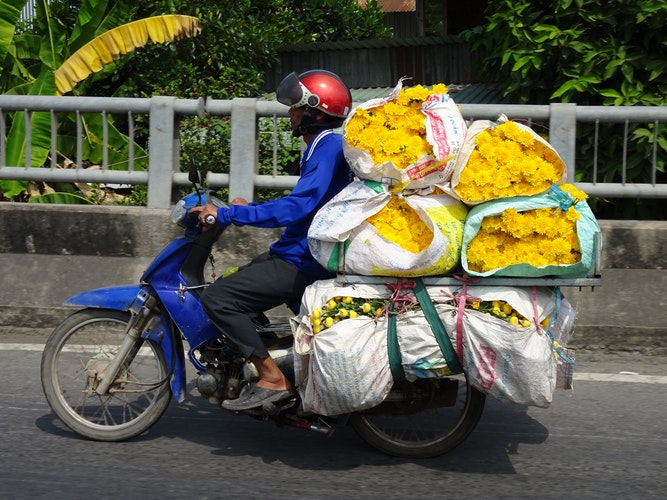helmet: (279, 70, 350, 126)
